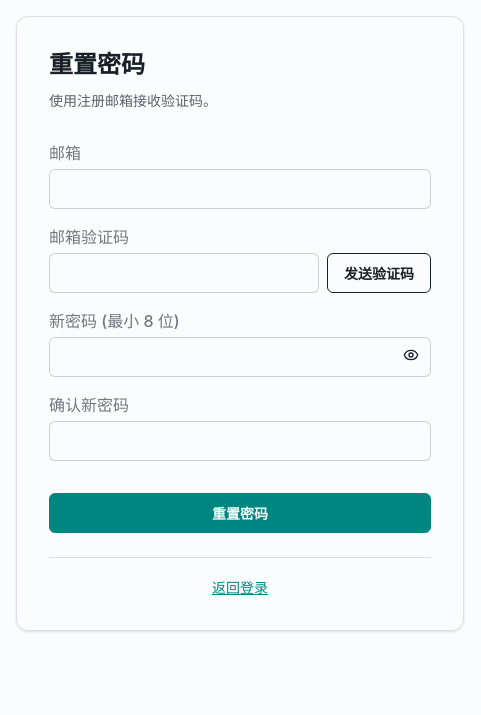
Test: ForgotPasswordPage › explains rate limits and restores the send action
In the field labelled "邮箱": (240, 189) [49, 169, 431, 209], type "user@example.test"
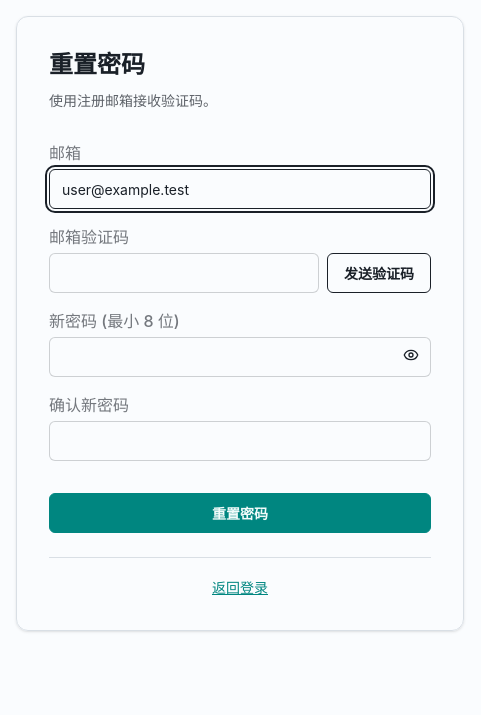
Click the button "发送验证码": (379, 273) [327, 253, 431, 293]
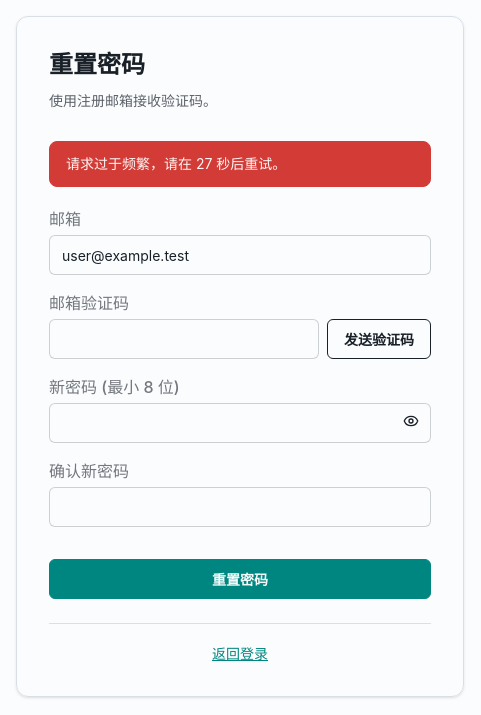
Expected: the button "发送验证码" is enabled, [327, 319, 431, 359]
Now the text "请求过于频繁，请在 27 秒后重试。" is shown, box [49, 141, 431, 187]
